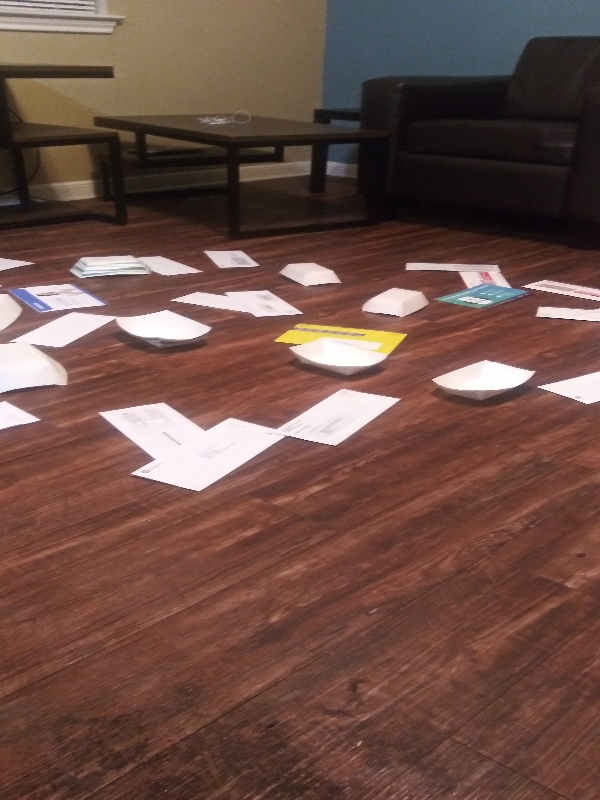plate: (430, 357, 541, 407), (112, 306, 216, 351), (286, 338, 394, 380), (1, 338, 76, 396), (67, 250, 152, 284), (357, 283, 429, 320), (275, 259, 344, 290), (1, 292, 28, 335)
